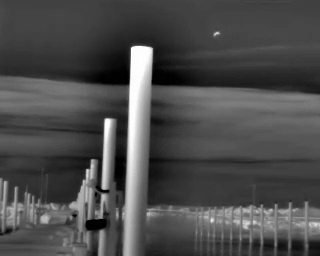BIRD: (211, 28, 223, 40)
